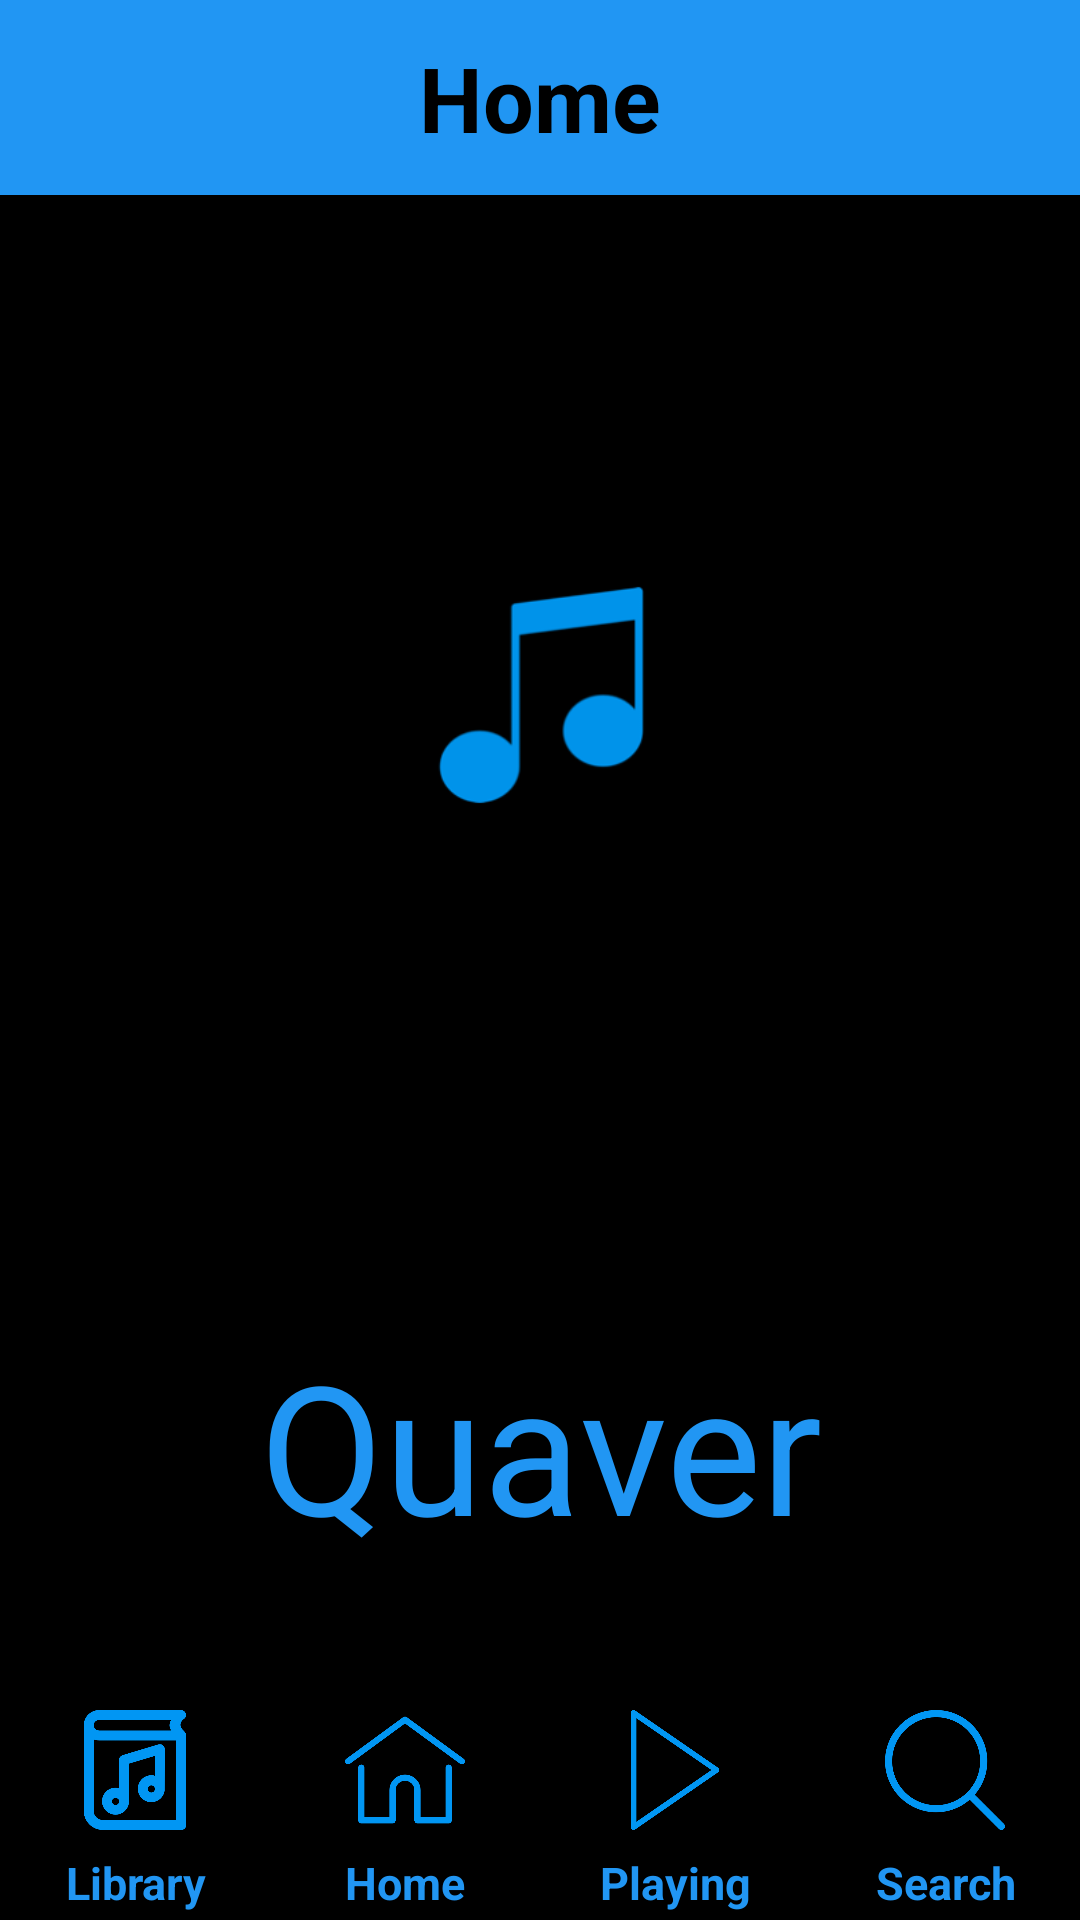

Locate icon controls on the screen. Image size 1080px×1920px, boxes as (left=x1, top=y1, right=x2, bottom=y2).
book: (left=84, top=1710, right=186, bottom=1830)
